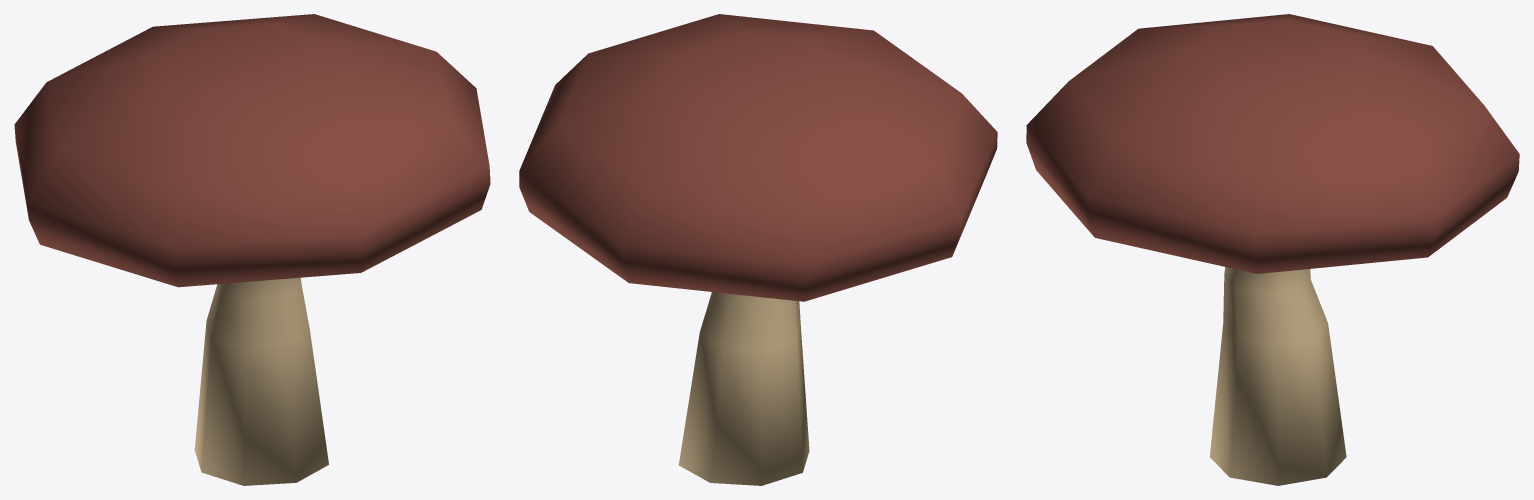
Rendered from Mushroon-red.fbx.
The picture shows the model from 3 angles, left to right: view 1: azimuth 30°, elevation 25°; view 2: azimuth 150°, elevation 25°; view 3: azimuth 270°, elevation 25°; orthographic projection. The views are drawn at different scales.
Visible parts, largest first — view 1: mushroom-red; view 2: mushroom-red; view 3: mushroom-red.
Boxes of the visible parts, bbox=[...] form: mushroom-red: bbox=[14, 14, 490, 485]; mushroom-red: bbox=[519, 14, 997, 485]; mushroom-red: bbox=[1026, 14, 1519, 485].
Size of the model in its own units: 44.44 by 39.65 by 44.45.
